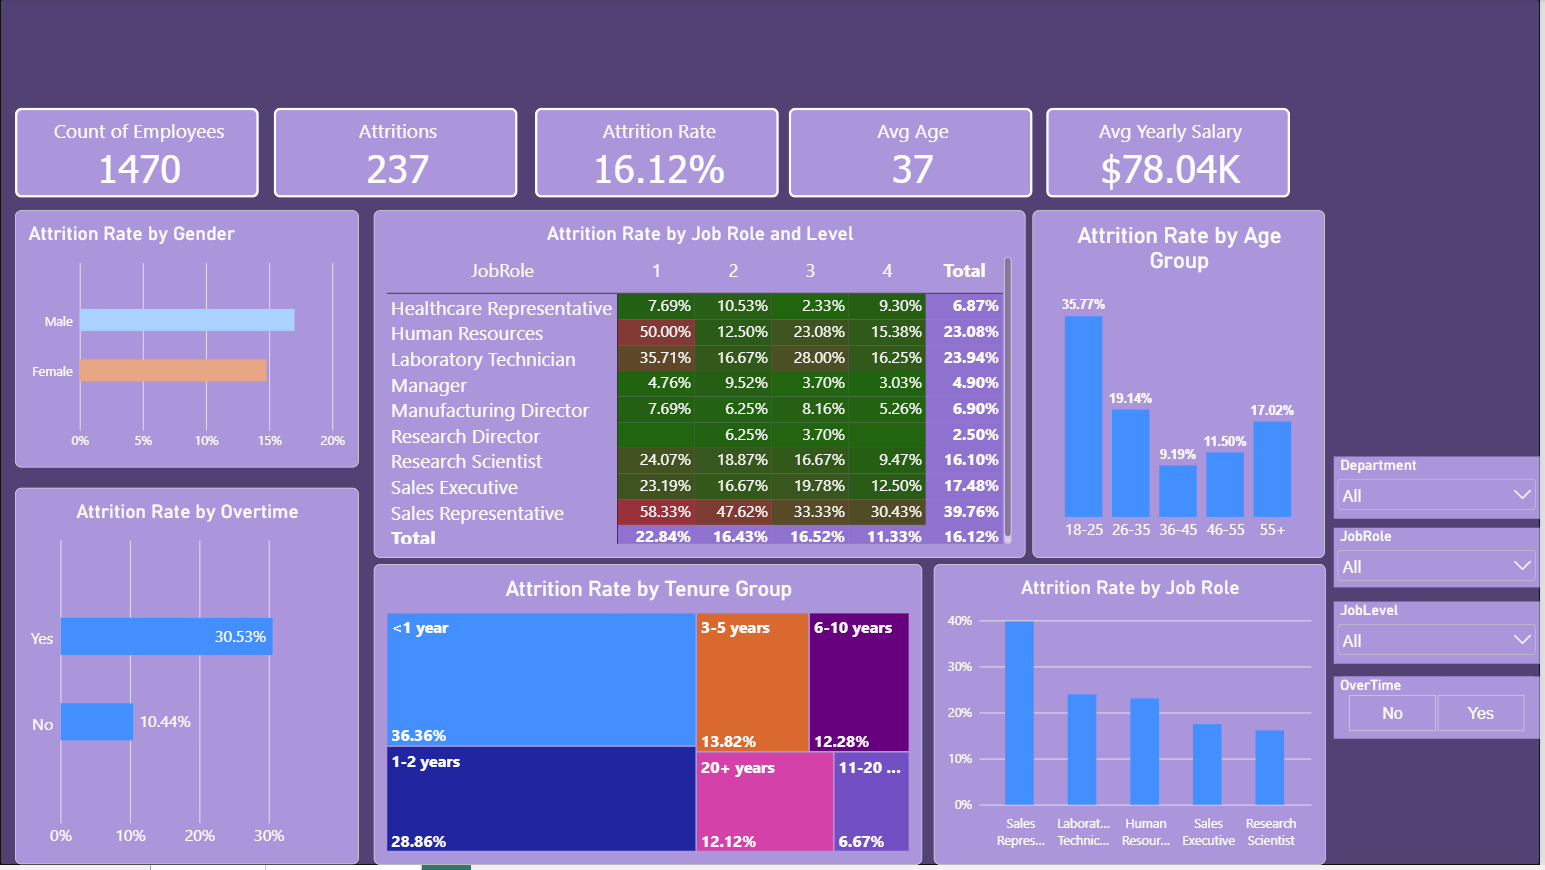

The page's visual inventory and layout, read from the dashboard file:
{"tool":"powerbi","page":{"name":"Overview","canvas":[1920,1080],"ordinal":0},"visuals":[{"type":"cardVisual","fields":{"Data":["_Measure.Count of Employees"]},"box":[19,135.7,304.9,112.3],"z":0},{"type":"cardVisual","fields":{"Data":["_Measure.Attritions"]},"box":[341.4,135.7,304.9,112.3],"z":1000},{"type":"cardVisual","fields":{"Data":["_Measure.Attrition Rate"]},"box":[666.7,135.7,304.9,112.3],"z":2000},{"type":"cardVisual","fields":{"Data":["_Measure.Avg Age"]},"box":[983.3,135.7,304.9,112.3],"z":3000},{"type":"cardVisual","fields":{"Data":["_Measure.Avg Salary"]},"box":[1304.3,135.7,304.9,112.3],"z":4000},{"type":"barChart","title":"Attrition Rate by Gender","fields":{"Category":["HR-Employee-Attrition.Gender"],"Y":["_Measure.Attrition Rate"]},"box":[19,264.1,428.9,321],"z":5000},{"type":"pivotTable","title":"Attrition Rate by Job Role and Level","fields":{"Rows":["HR-Employee-Attrition.JobRole"],"Columns":["HR-Employee-Attrition.JobSatisfaction"],"Values":["_Measure.Attrition Rate"]},"box":[465.4,264.1,812.6,433.3],"z":6000},{"type":"clusteredColumnChart","title":"Attrition Rate by Age Group","fields":{"Category":["HR-Employee-Attrition.Age Group"],"Y":["_Measure.Attrition Rate"]},"box":[1288.3,264.1,364.7,433.3],"z":7000},{"type":"clusteredColumnChart","title":"Attrition Rate by Job Role","fields":{"Category":["HR-Employee-Attrition.JobRole"],"Y":["_Measure.Attrition Rate"]},"box":[1164.3,704.7,488.8,375],"z":8000},{"type":"treemap","title":"Attrition Rate by Tenure Group","fields":{"Group":["HR-Employee-Attrition.Tenure Group"],"Values":["_Measure.Attrition Rate"]},"box":[465.4,704.7,684.3,375],"z":9000},{"type":"clusteredBarChart","title":"Attrition Rate by Overtime","fields":{"Category":["HR-Employee-Attrition.OverTime"],"Y":["_Measure.Attrition Rate"]},"box":[19,609.8,428.9,469.8],"z":10000},{"type":"slicer","fields":{"Values":["HR-Employee-Attrition.Department"]},"box":[1663.2,570.5,256.8,77.3],"z":11000},{"type":"slicer","fields":{"Values":["HR-Employee-Attrition.JobRole"]},"box":[1663.2,659.5,256.8,74.4],"z":12000},{"type":"slicer","fields":{"Values":["HR-Employee-Attrition.JobLevel"]},"box":[1663.2,751.4,256.8,77.3],"z":13000},{"type":"slicer","fields":{"Values":["HR-Employee-Attrition.OverTime"]},"box":[1663.1,843.9,256.8,77.3],"z":14000},{"type":"textbox","box":[646.9,14,640.7,104.4],"z":14002}]}

Visuals, with their boxes in screenshot pixels (x1, y1, x2, y2), scaled from the page's 1920x1080 canvas onto the 1545x870 screenshot:
cardVisual - _Measure.Count of Employees: rect(15, 109, 261, 200)
cardVisual - _Measure.Attritions: rect(275, 109, 520, 200)
cardVisual - _Measure.Attrition Rate: rect(536, 109, 782, 200)
cardVisual - _Measure.Avg Age: rect(791, 109, 1037, 200)
cardVisual - _Measure.Avg Salary: rect(1050, 109, 1295, 200)
"Attrition Rate by Gender" barChart: rect(15, 213, 360, 471)
"Attrition Rate by Job Role and Level" pivotTable: rect(375, 213, 1028, 562)
"Attrition Rate by Age Group" clusteredColumnChart: rect(1037, 213, 1330, 562)
"Attrition Rate by Job Role" clusteredColumnChart: rect(937, 568, 1330, 869)
"Attrition Rate by Tenure Group" treemap: rect(375, 568, 925, 869)
"Attrition Rate by Overtime" clusteredBarChart: rect(15, 491, 360, 869)
slicer - HR-Employee-Attrition.Department: rect(1338, 460, 1544, 522)
slicer - HR-Employee-Attrition.JobRole: rect(1338, 531, 1544, 591)
slicer - HR-Employee-Attrition.JobLevel: rect(1338, 605, 1544, 668)
slicer - HR-Employee-Attrition.OverTime: rect(1338, 680, 1544, 742)
textbox: rect(521, 11, 1036, 95)
